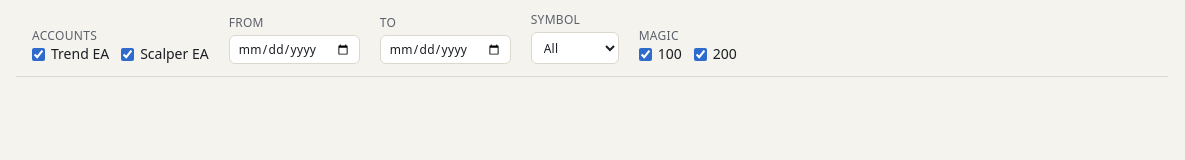
Test: unticking a magic, removing and restoring its account leaves it ticked
The image size is (1185, 160).
Click the checkbox labelled "200" at (700, 54), box x1=694 y1=48 x2=707 y2=61
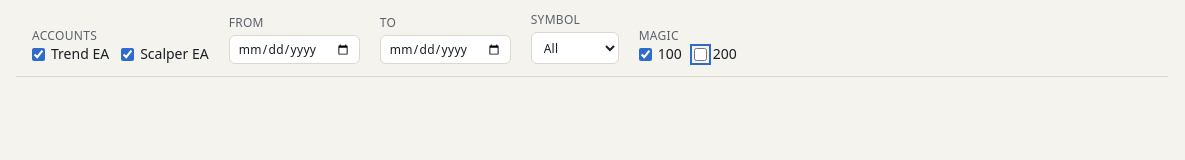
Click the checkbox labelled "Scalper EA" at (128, 54), box x1=121 y1=48 x2=134 y2=61
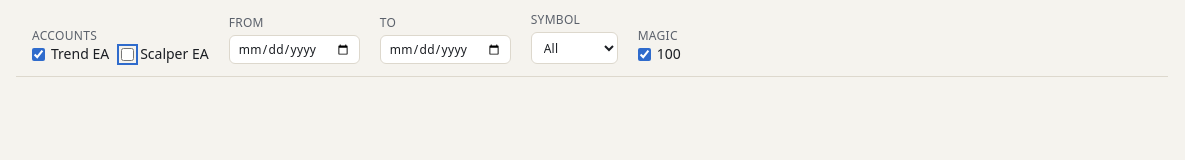
Click the checkbox labelled "Scalper EA" at (128, 54), box x1=121 y1=48 x2=134 y2=61
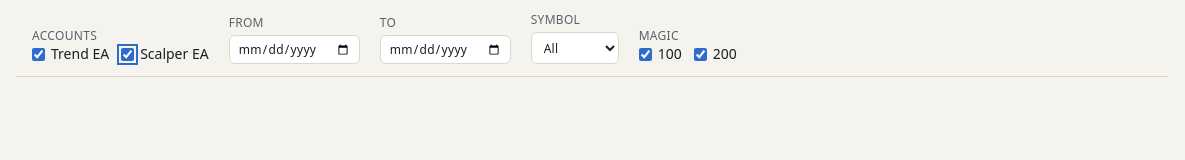
Expected: the checkbox labelled "200" is checked, x1=694 y1=48 x2=707 y2=61
